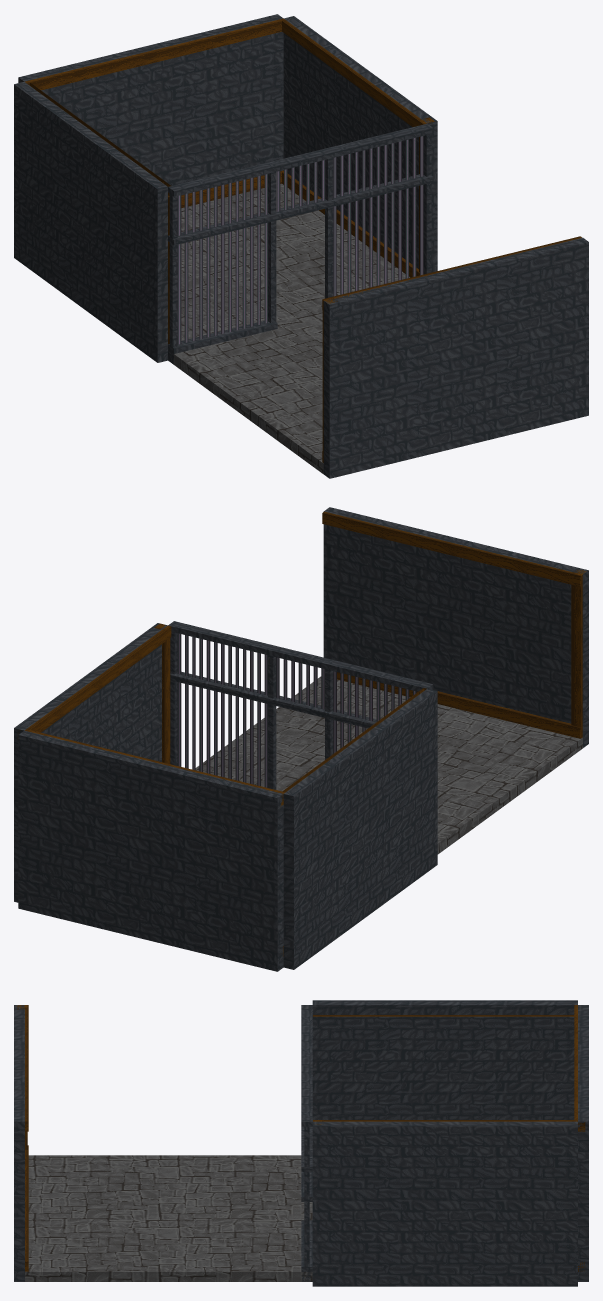
File: Flur Gefaengnis V1.fbx
3 renders of one model, top to bottom at view 1: azimuth 30°, elevation 25°; view 2: azimuth 150°, elevation 25°; view 3: azimuth 270°, elevation 25°, orthographic. The views are drawn at different scales.
Parts seen in each view (by area): view 1: Flur Gefängnis V1; view 2: Flur Gefängnis V1; view 3: Flur Gefängnis V1.
Boxes of the visible parts, bbox=[...] form: Flur Gefängnis V1: bbox=[14, 14, 588, 478]; Flur Gefängnis V1: bbox=[14, 507, 588, 971]; Flur Gefängnis V1: bbox=[14, 1000, 588, 1286].
Bounding box in the file's own units: 540 × 1040 × 320.
2 materials, 2 textured.
